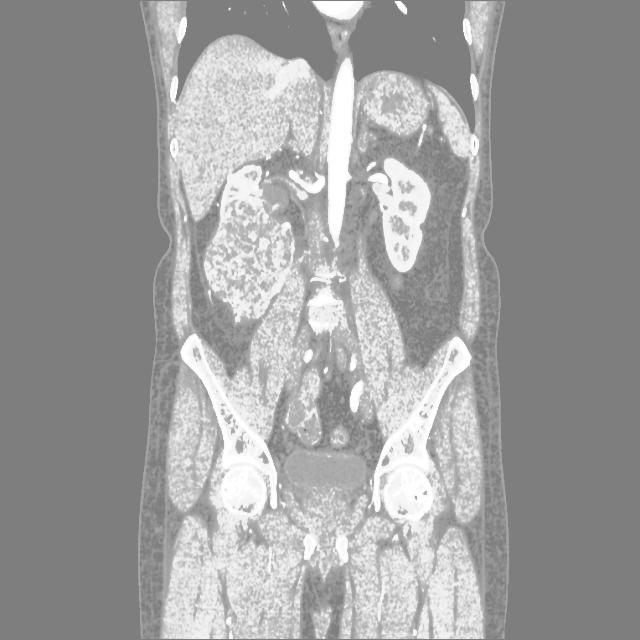TUMOR: (187, 186, 482, 309)
